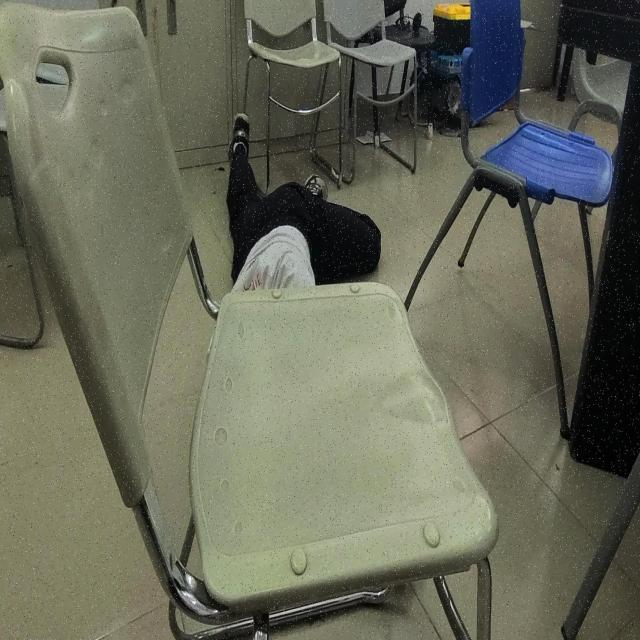fall: (222, 110, 384, 314)
